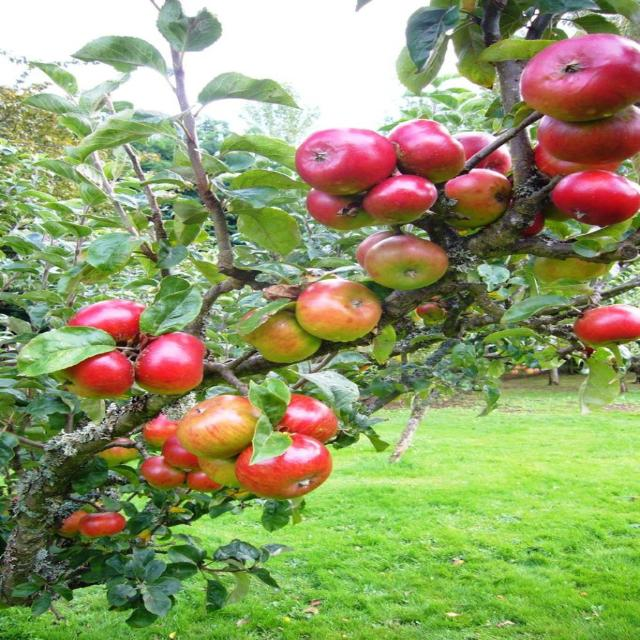Healty Apple: (292, 34, 640, 294), (89, 393, 342, 502), (310, 118, 410, 190), (292, 280, 379, 344), (232, 304, 317, 364), (134, 333, 208, 398), (50, 348, 136, 402), (63, 300, 145, 348), (569, 304, 639, 350), (78, 512, 125, 536), (59, 512, 89, 536), (412, 302, 445, 322), (429, 298, 457, 309)
